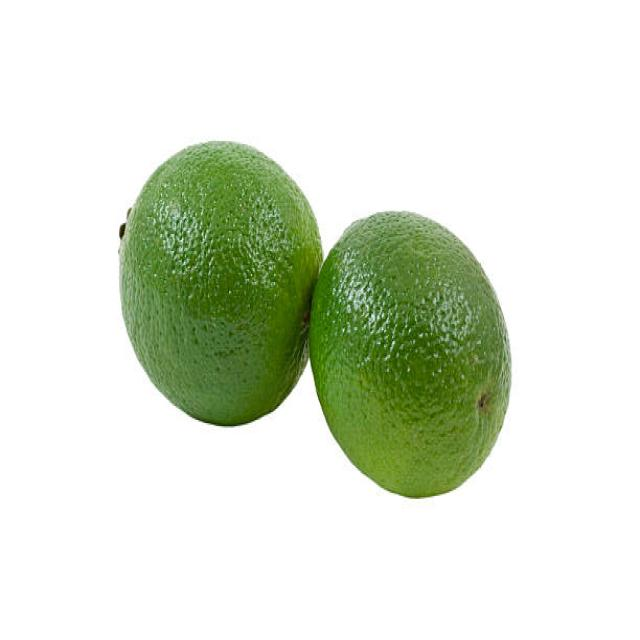Unripe: (310, 208, 513, 500), (120, 142, 323, 427)
